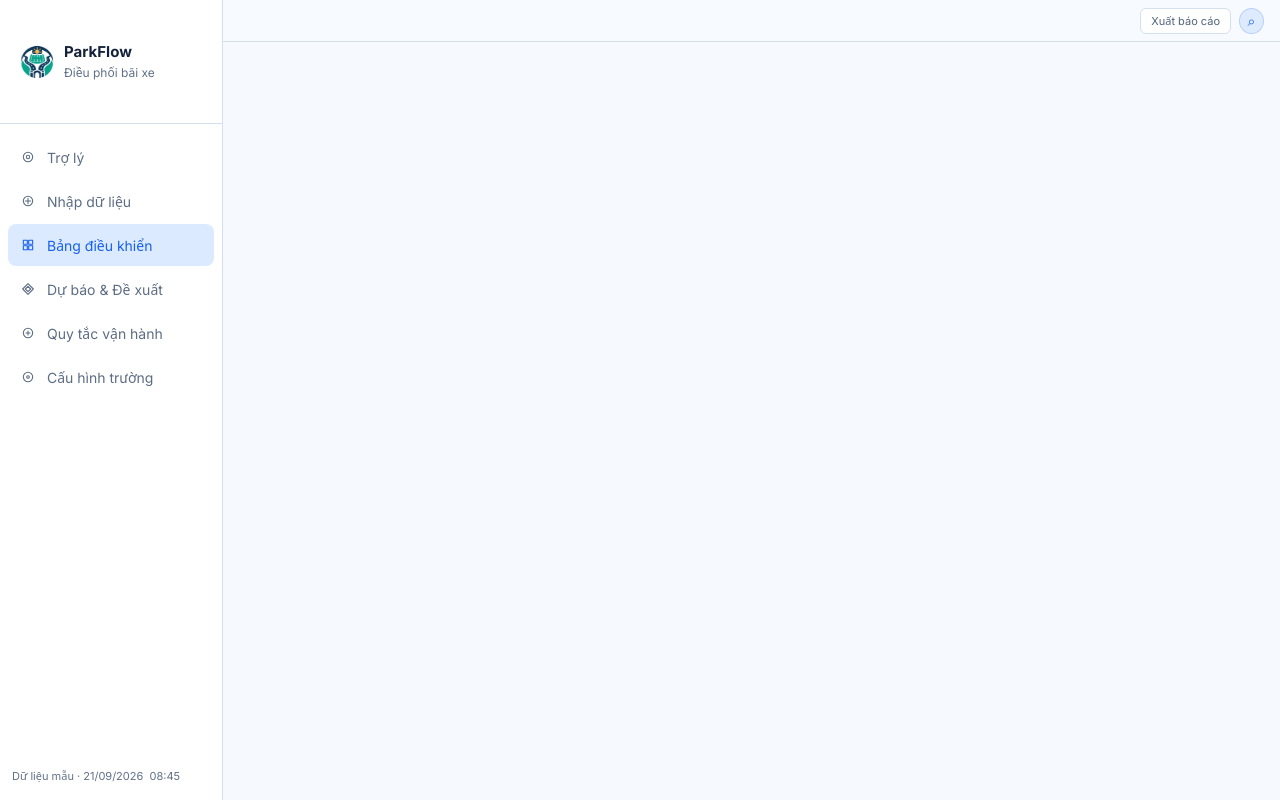
Test: renders API markdown when report succeeds
Click the button "Xuất báo cáo" at (1186, 20), box [1140,8,1231,34]
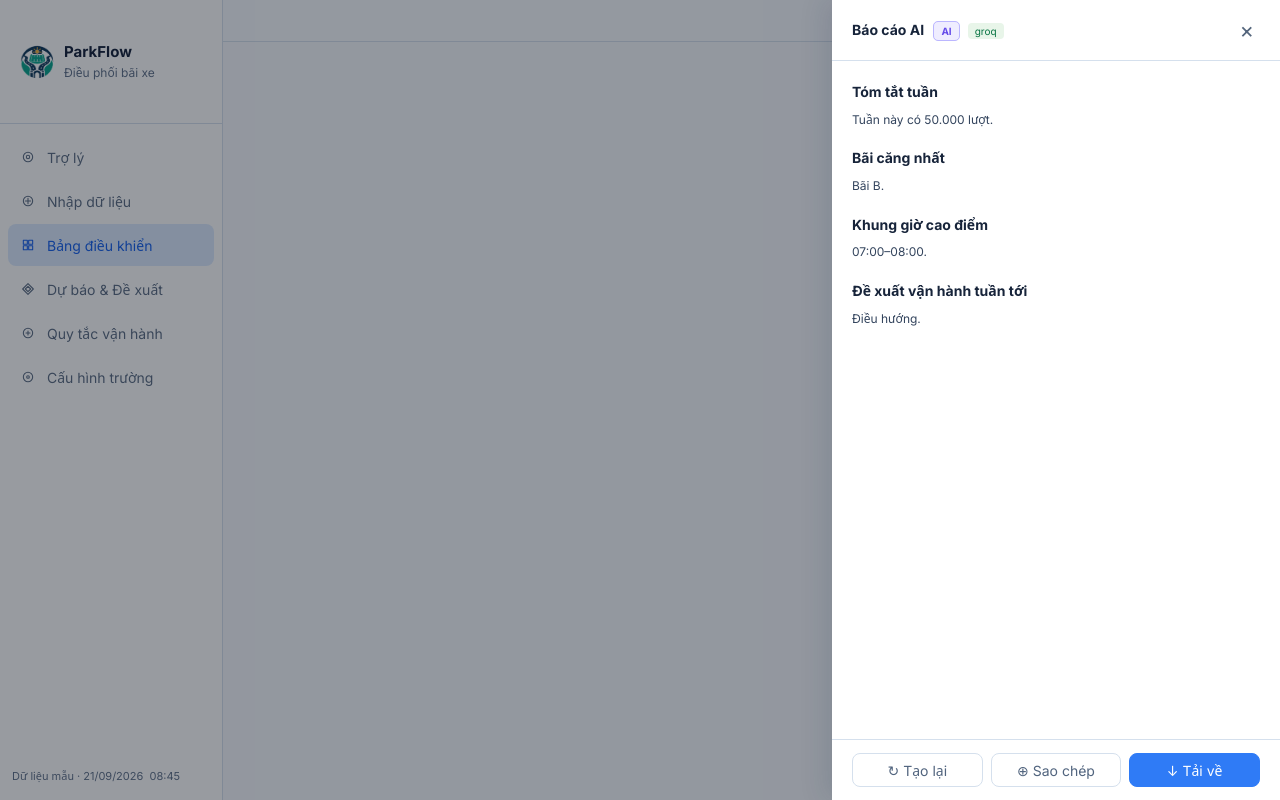
Check: the text "Tuần này có 50.000 lượt." is shown, box [852,112,993,127]
Check: the text "groq" is shown, box [968,23,1004,39]
